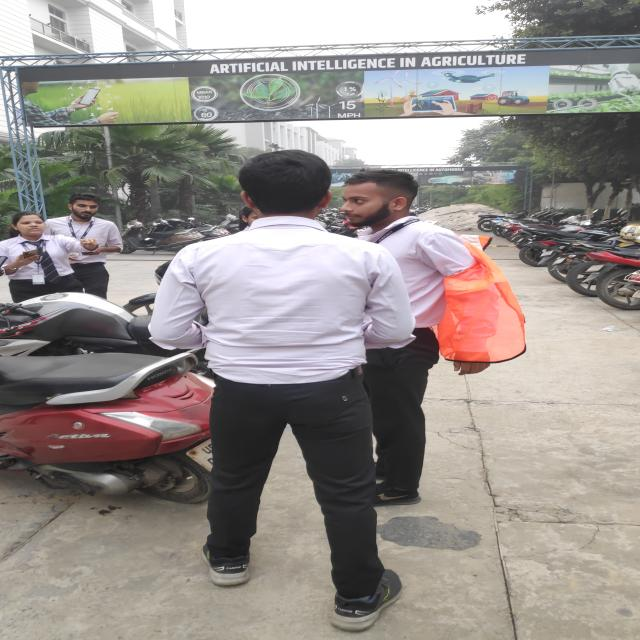unsafe: (170, 148, 407, 612), (342, 168, 471, 512), (57, 192, 119, 296), (2, 210, 61, 293)
